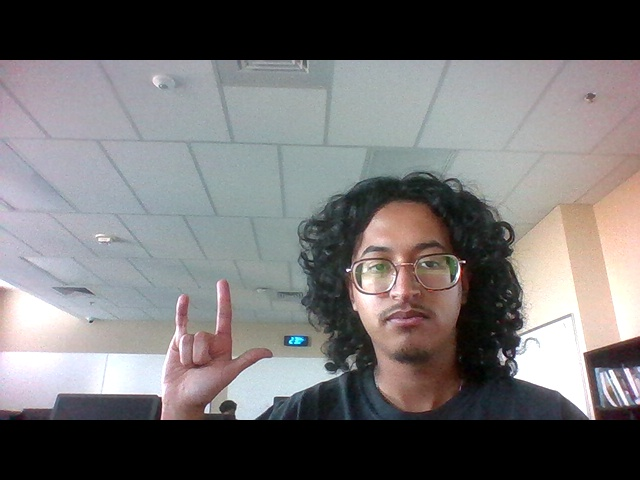iloveyou: (154, 277, 277, 409)
